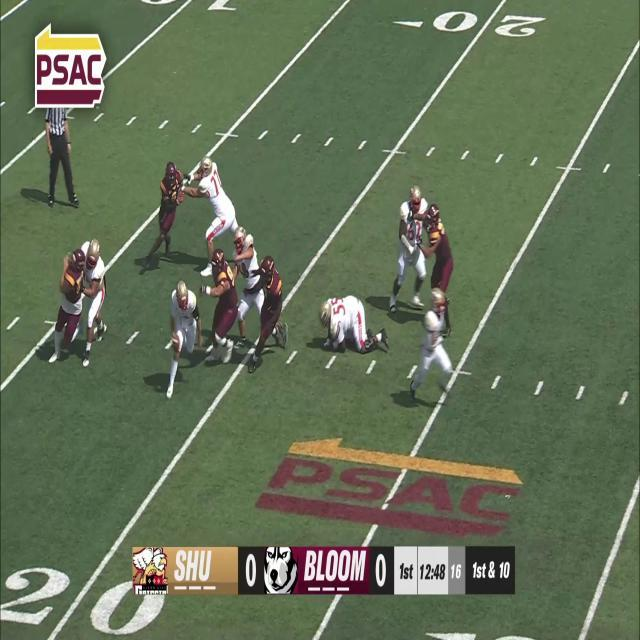football: (170, 330, 180, 352)
